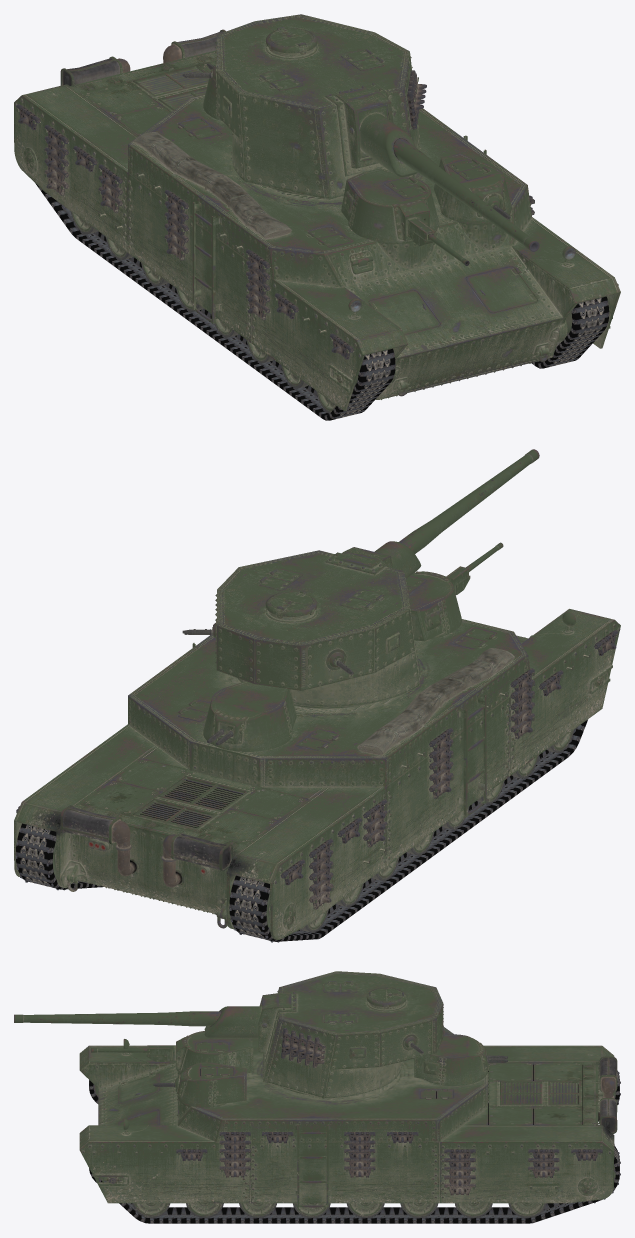
Rendered from oho.glb.
The picture shows the model from 3 angles, top to bottom: view 1: azimuth 30°, elevation 25°; view 2: azimuth 150°, elevation 25°; view 3: azimuth 270°, elevation 25°; orthographic projection. The views are drawn at different scales.
Parts seen in each view (by area): view 1: 0.002_Material_0, 0.003_Material.002_0, 3_Material.004_0, 1.001_Material.001_0, 0.001_Material.003_0, 2_Material.004_0, 1_Material.005_0, 1.002_Material.001_0; view 2: 0.002_Material_0, 0.003_Material.002_0, 3_Material.004_0, 1.001_Material.001_0, 0.001_Material.003_0, 1_Material.005_0, 2_Material.004_0; view 3: 0.002_Material_0, 0.003_Material.002_0, 1.001_Material.001_0, 2_Material.004_0, 0.001_Material.003_0, 0_Material.005_0, 1.002_Material.001_0.
Boxes of the visible parts, x1=… form: 0.002_Material_0: x1=14, y1=29, x2=620, y2=410; 0.003_Material.002_0: x1=182, y1=14, x2=420, y2=199; 3_Material.004_0: x1=35, y1=183, x2=395, y2=420; 1.001_Material.001_0: x1=16, y1=104, x2=618, y2=359; 0.001_Material.003_0: x1=357, y1=104, x2=539, y2=251; 2_Material.004_0: x1=531, y1=296, x2=609, y2=368; 1_Material.005_0: x1=70, y1=211, x2=358, y2=413; 1.002_Material.001_0: x1=407, y1=70, x2=426, y2=129; 0.002_Material_0: x1=14, y1=542, x2=620, y2=939; 0.003_Material.002_0: x1=182, y1=547, x2=420, y2=708; 3_Material.004_0: x1=229, y1=719, x2=587, y2=941; 1.001_Material.001_0: x1=16, y1=630, x2=618, y2=909; 0.001_Material.003_0: x1=374, y1=449, x2=539, y2=578; 1_Material.005_0: x1=229, y1=729, x2=574, y2=942; 2_Material.004_0: x1=15, y1=823, x2=103, y2=889; 0.002_Material_0: x1=79, y1=1026, x2=617, y2=1207; 0.003_Material.002_0: x1=258, y1=971, x2=443, y2=1098; 1.001_Material.001_0: x1=93, y1=1132, x2=602, y2=1195; 2_Material.004_0: x1=89, y1=1145, x2=619, y2=1223; 0.001_Material.003_0: x1=14, y1=1003, x2=262, y2=1038; 0_Material.005_0: x1=99, y1=1144, x2=620, y2=1217; 1.002_Material.001_0: x1=281, y1=1028, x2=325, y2=1067.
Size of the model in its own units: 4.52 by 3.67 by 10.92.
6 materials, 6 textured.
